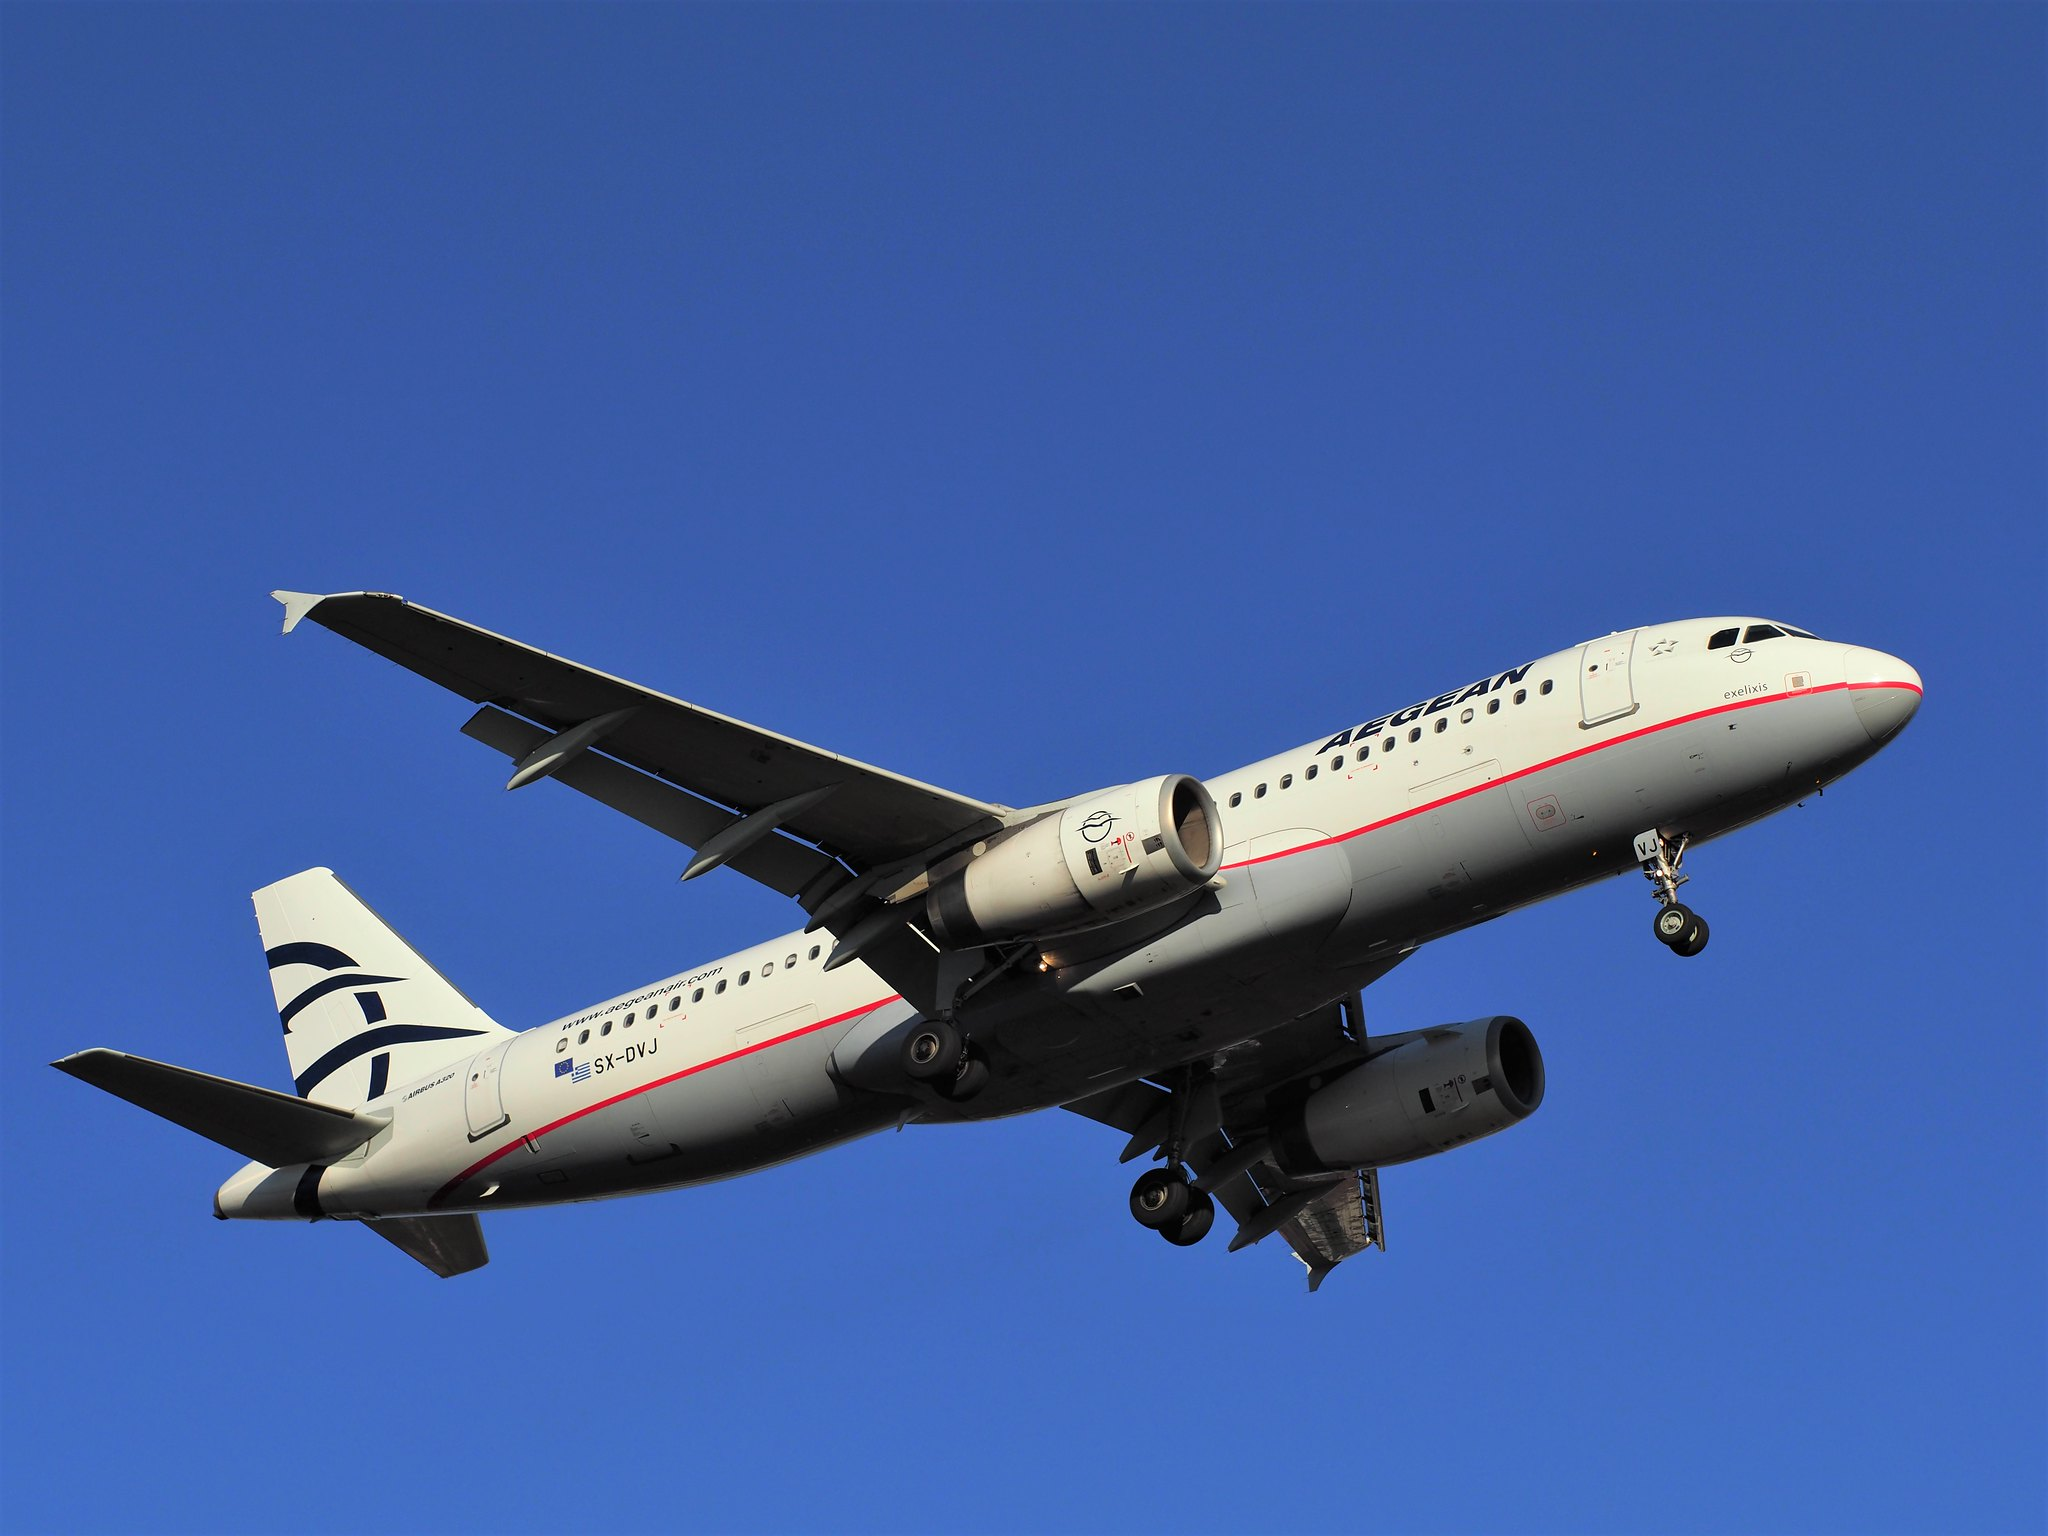aeroplane: (44, 561, 1938, 1294)
